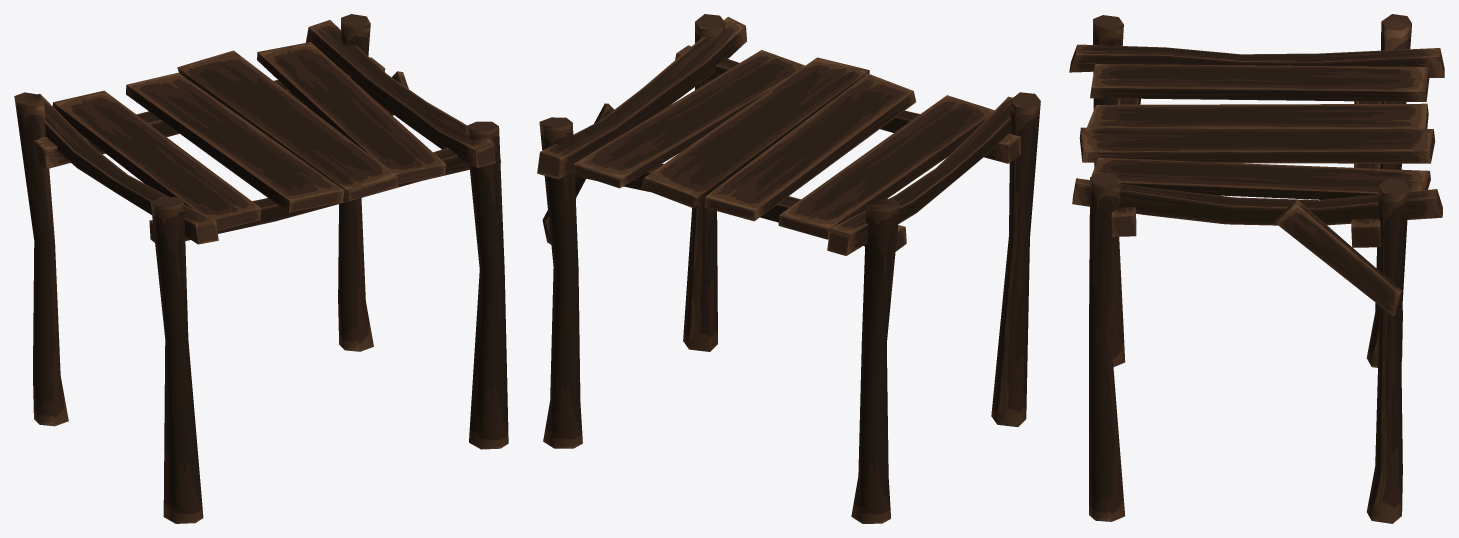
The model's file is SM_PROP_woodbridge_dungeon_05.fbx.
The picture shows the model from 3 angles, left to right: view 1: azimuth 30°, elevation 25°; view 2: azimuth 150°, elevation 25°; view 3: azimuth 270°, elevation 25°; orthographic projection. The views are drawn at different scales.
Visible parts, largest first — view 1: SM_PROP_woodbridge_dungeon_05; view 2: SM_PROP_woodbridge_dungeon_05; view 3: SM_PROP_woodbridge_dungeon_05.
Part boxes in pixels (bbox=[...]): SM_PROP_woodbridge_dungeon_05: bbox=[14, 14, 508, 523]; SM_PROP_woodbridge_dungeon_05: bbox=[537, 14, 1040, 523]; SM_PROP_woodbridge_dungeon_05: bbox=[1069, 14, 1444, 523].
Size of what is drawn, in the model's own units: 406 by 353 by 362.
